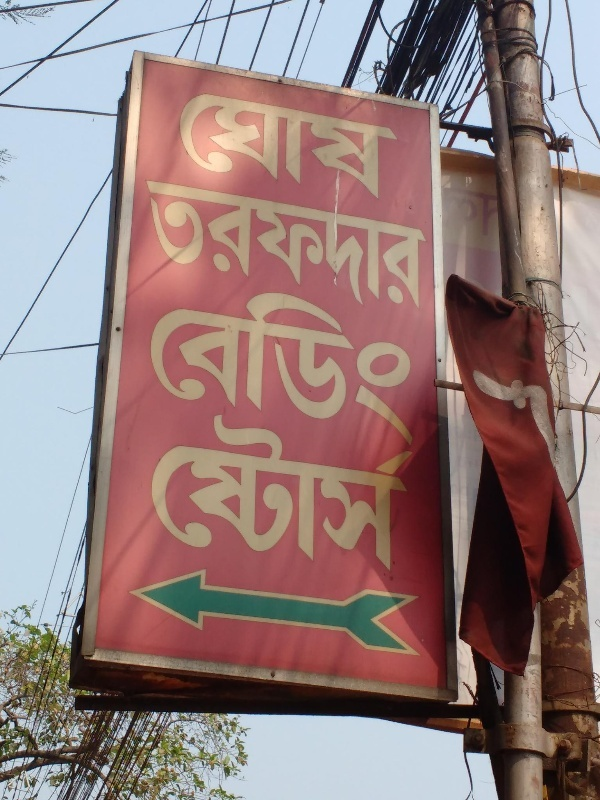text: (161, 279, 176, 456), (177, 279, 192, 456), (193, 279, 208, 456), (209, 279, 224, 456), (225, 279, 240, 456), (241, 279, 256, 456), (257, 279, 272, 456), (273, 279, 288, 456), (289, 279, 304, 456), (305, 279, 320, 456), (321, 279, 336, 456), (337, 279, 352, 456), (353, 279, 368, 456), (369, 279, 384, 456), (385, 279, 400, 456), (401, 279, 416, 456), (417, 279, 432, 456), (161, 403, 176, 580), (177, 403, 192, 580), (193, 403, 208, 580), (209, 403, 224, 580), (225, 403, 240, 580), (241, 403, 256, 580), (257, 403, 272, 580), (273, 403, 288, 580), (289, 403, 304, 580), (305, 403, 320, 580), (321, 403, 336, 580), (337, 403, 352, 580), (353, 403, 368, 580), (369, 403, 384, 580), (385, 403, 400, 580), (401, 403, 416, 580), (147, 279, 160, 456), (177, 78, 192, 217), (193, 78, 208, 217), (209, 78, 224, 217), (225, 78, 240, 217), (241, 78, 256, 217), (257, 78, 272, 217), (273, 78, 288, 217), (289, 78, 304, 217), (305, 78, 320, 217), (321, 78, 336, 217), (337, 78, 352, 217), (353, 78, 368, 217), (369, 78, 384, 217), (385, 78, 400, 217), (401, 78, 416, 217), (145, 178, 160, 317), (161, 178, 176, 317), (177, 178, 192, 317), (193, 178, 208, 317), (209, 178, 224, 317), (225, 178, 240, 317), (241, 178, 256, 317), (257, 178, 272, 317), (273, 178, 288, 317), (289, 178, 304, 317), (305, 178, 320, 317), (321, 178, 336, 317), (337, 178, 352, 317), (353, 178, 368, 317), (369, 178, 384, 317), (385, 178, 400, 317), (401, 178, 416, 317), (417, 178, 432, 317), (150, 403, 160, 580), (433, 178, 441, 317), (417, 403, 422, 580), (449, 183, 464, 239), (465, 183, 480, 239), (481, 183, 496, 239), (170, 78, 176, 217), (417, 78, 421, 217), (443, 183, 448, 239), (497, 183, 501, 239)
